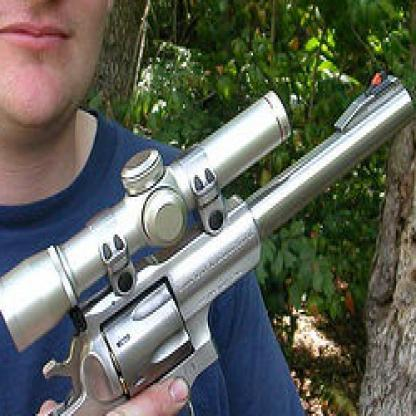gun: (35, 64, 415, 414)
